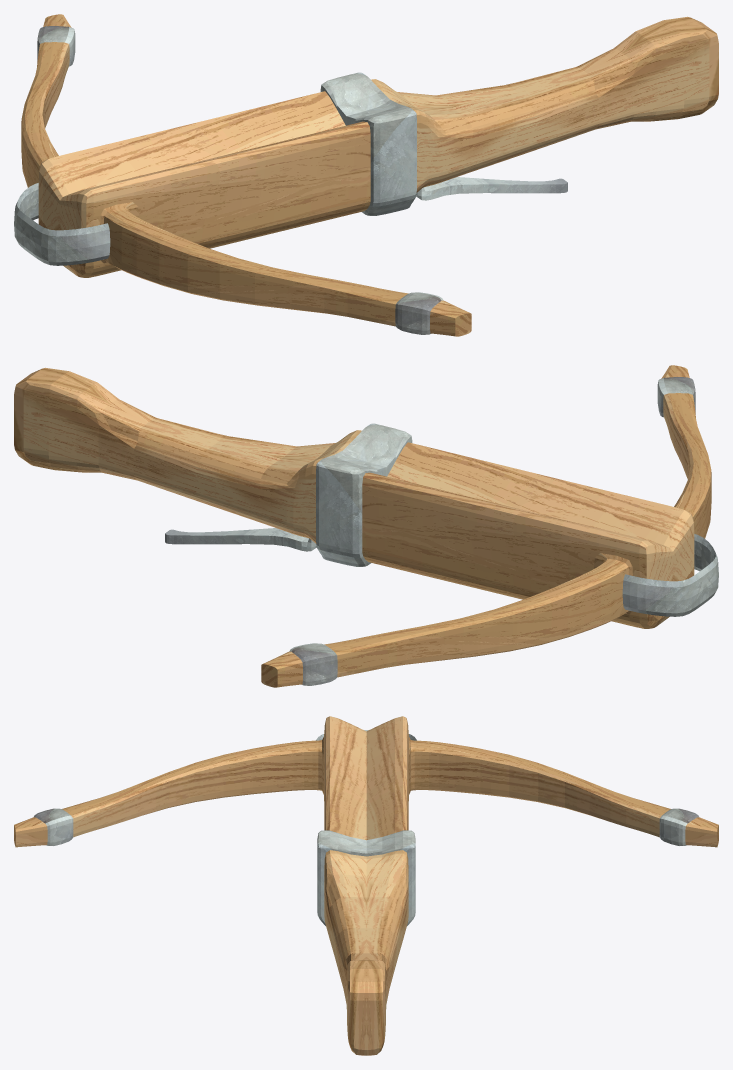
The model's file is crossbowWood.glb.
3 views of the same model, one above another, from view 1: azimuth 30°, elevation 25°; view 2: azimuth 150°, elevation 25°; view 3: azimuth 270°, elevation 25° (orthographic). The views are drawn at different scales.
Visible parts, largest first — view 1: Crossbow Simple; view 2: Crossbow Simple; view 3: Crossbow Simple.
Part boxes in pixels (x1,y1,x2,y2): Crossbow Simple: (14, 14, 718, 336); Crossbow Simple: (14, 365, 718, 687); Crossbow Simple: (14, 716, 718, 1055).
Bounding box in the file's own units: 8.68 × 1.71 × 9.02.
1 material, 1 textured.
